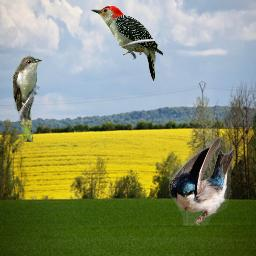Cuckoo: (13, 54, 42, 142)
Swallow: (169, 137, 235, 226)
Woodpecker: (91, 5, 163, 81)
